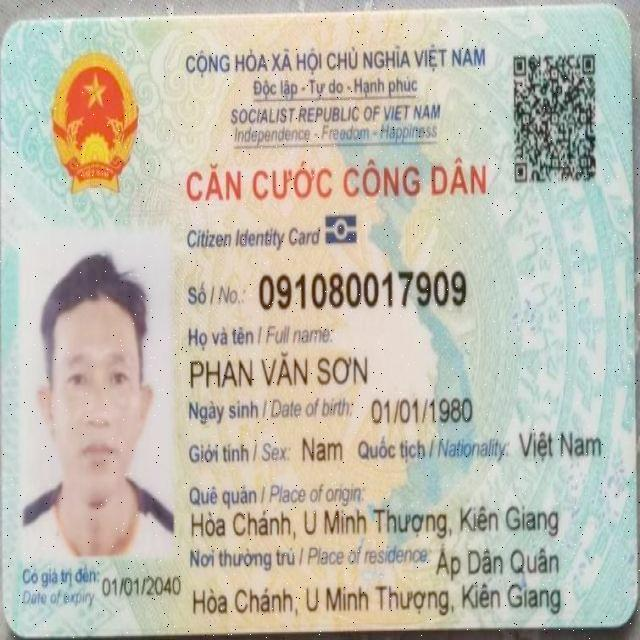current_place: (189, 579, 570, 618), (428, 533, 569, 583)
dob: (366, 387, 475, 431)
expire_date: (98, 565, 184, 601)
gender: (294, 429, 350, 467)
id: (252, 264, 480, 315)
name: (184, 348, 381, 394)
nationality: (516, 418, 607, 463)
origin_place: (183, 502, 570, 542)
